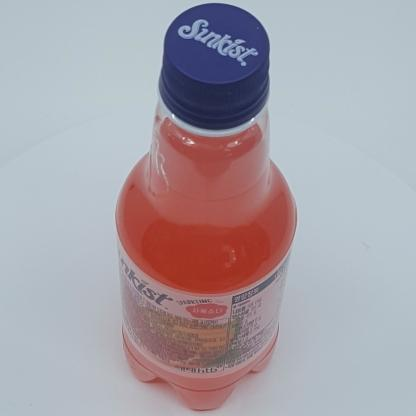----------350ML-PET-: (115, 3, 297, 411)
